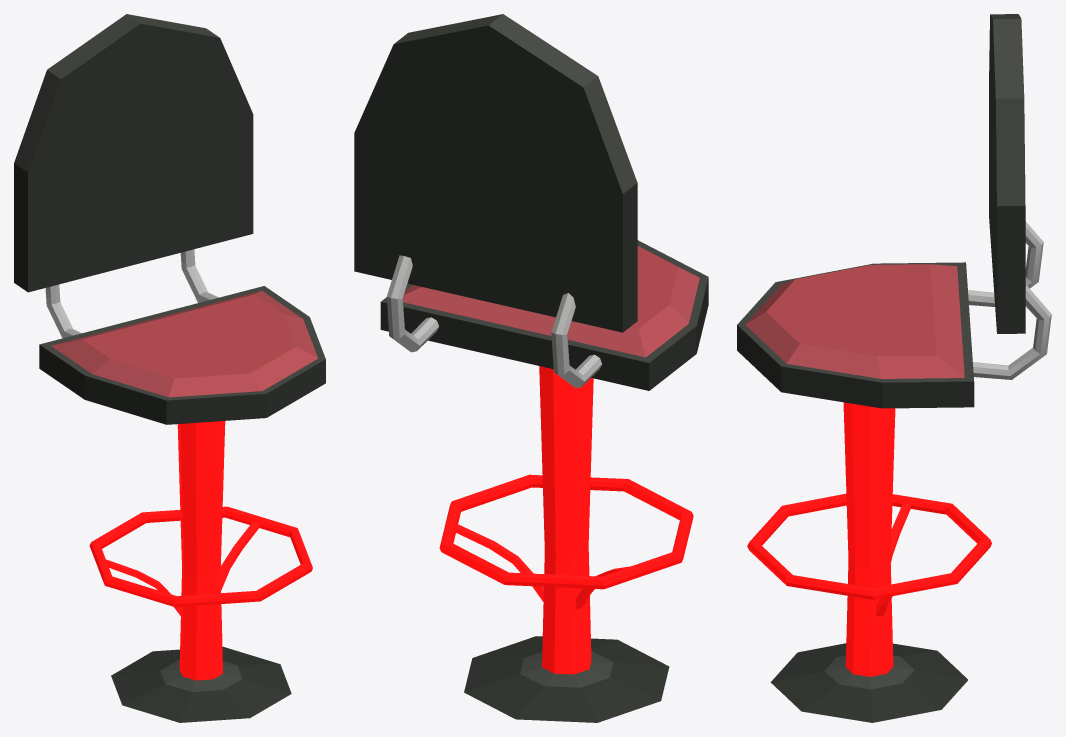
Rendered from Stool_D.glb.
3 renders of one model, left to right at view 1: azimuth 30°, elevation 25°; view 2: azimuth 150°, elevation 25°; view 3: azimuth 270°, elevation 25°, orthographic. The views are drawn at different scales.
Visible parts, largest first — view 1: Barstool_A; view 2: Barstool_A; view 3: Barstool_A.
Boxes of the visible parts, left/top/right/bottom form: Barstool_A: left=14, top=14, right=325, bottom=722; Barstool_A: left=354, top=14, right=708, bottom=722; Barstool_A: left=737, top=14, right=1051, bottom=722.
Size of what is drawn, in the model's own units: 0.6258 by 1.6 by 0.689.
1 material, 1 textured.
